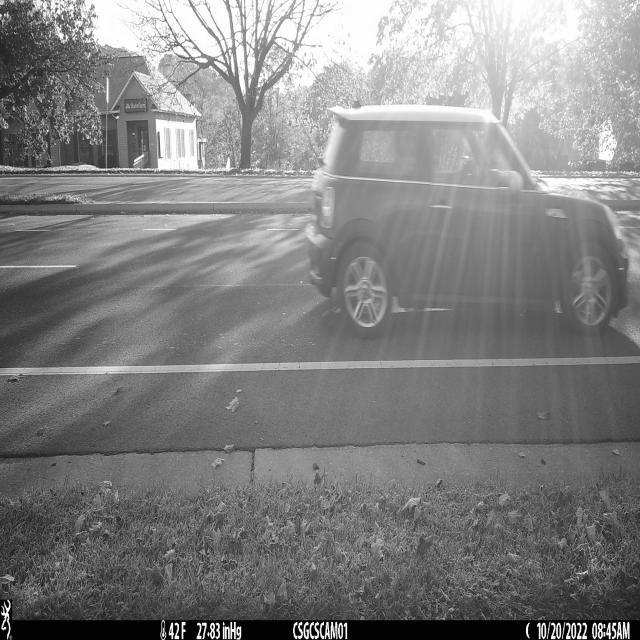Hatchback: (305, 105, 634, 336)
